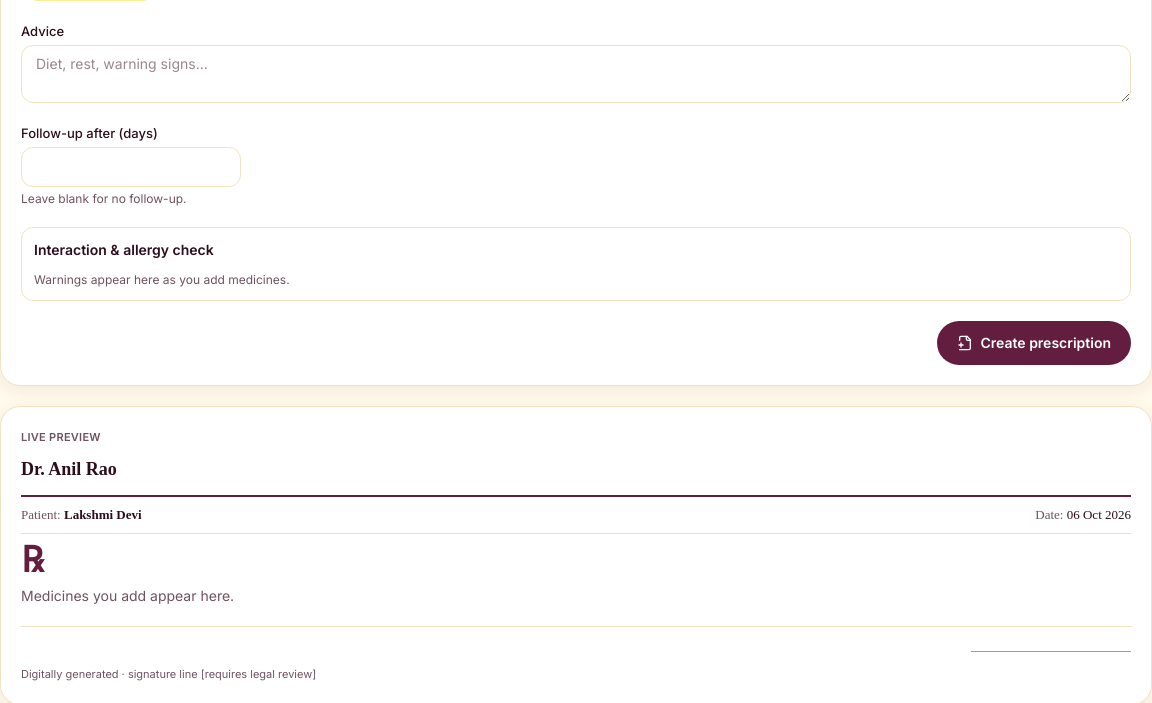
Test: PrescriptionWriter › shows a validation error for an empty drug name and does not submit
(page scrolled)
Click the button "Create prescription" at [1034, 343], box [936, 321, 1131, 365]
(page scrolled)
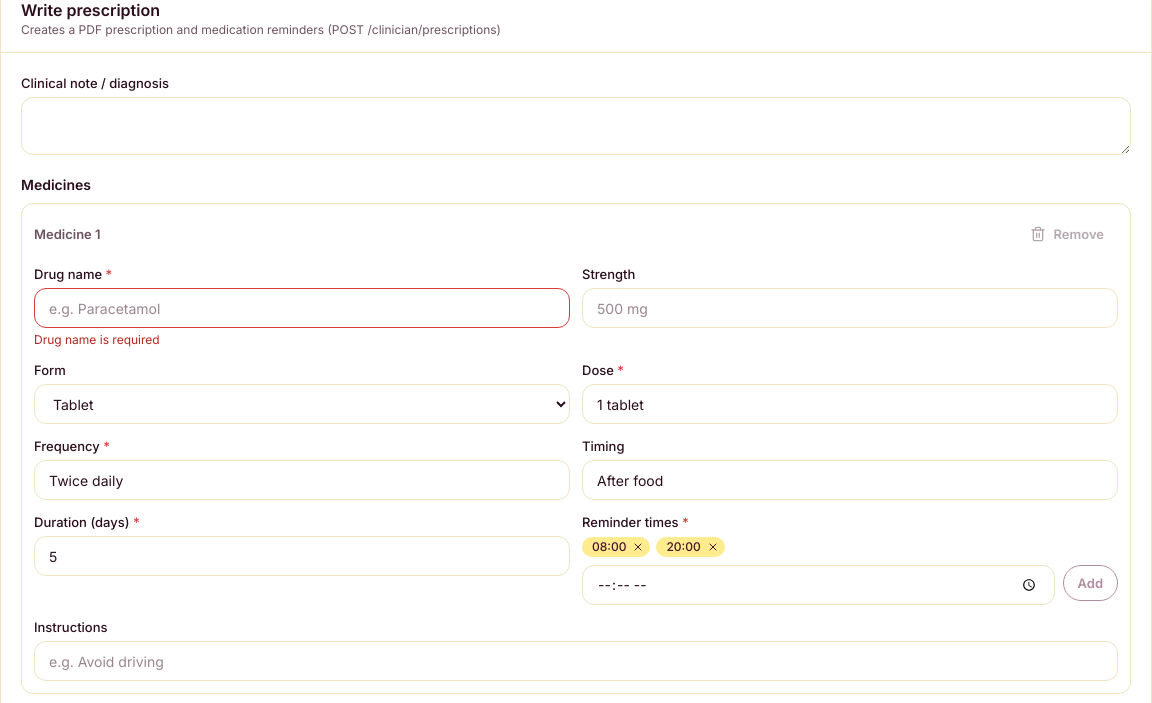
Now the text "Drug name is required" is shown, box [34, 332, 160, 347]
